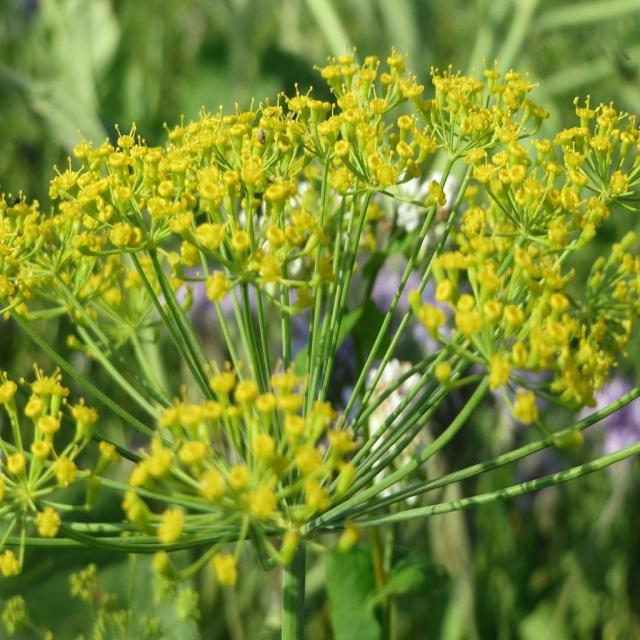Dill: (6, 48, 640, 562)
